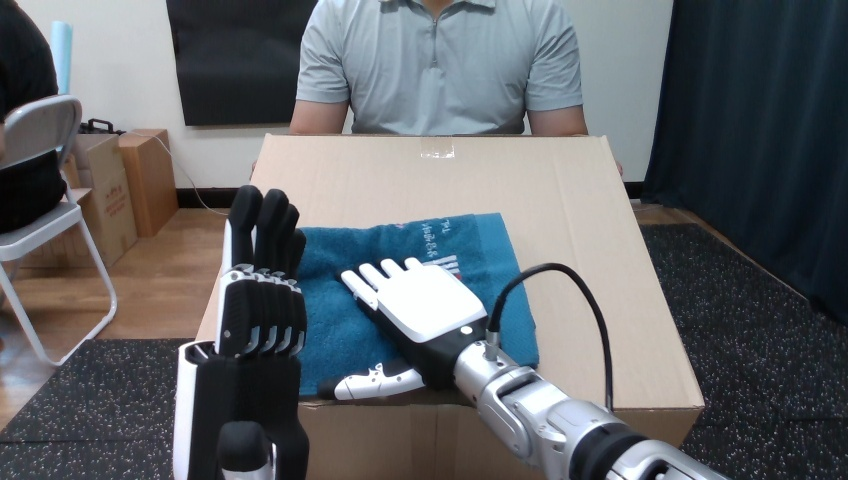left robot hand: (334, 257, 725, 479), (173, 185, 308, 479), (498, 269, 607, 407)
